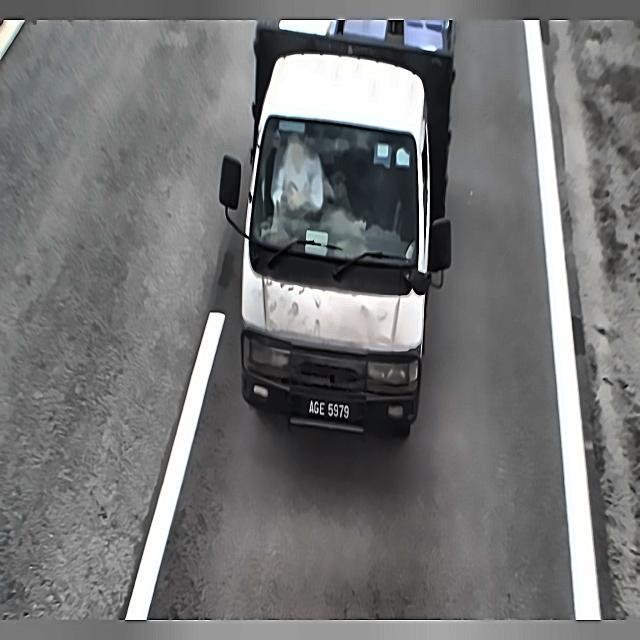car: (302, 390, 356, 427)
